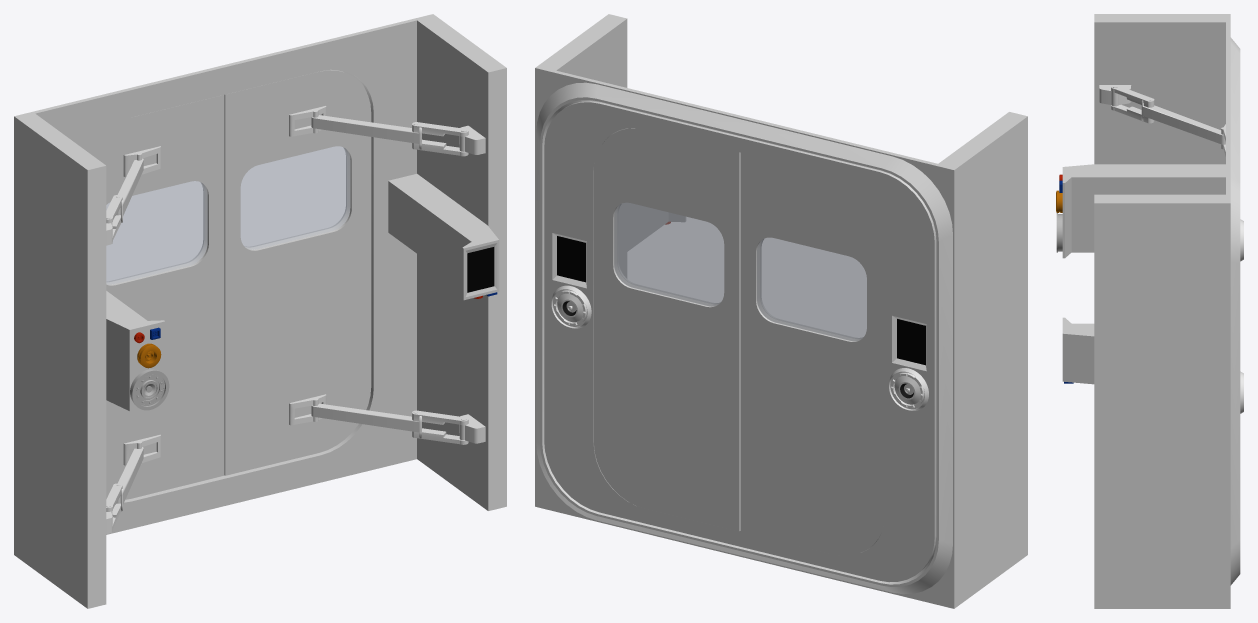
The model's file is DockableDoor.gltf.
3 renders of one model, left to right at view 1: azimuth 30°, elevation 25°; view 2: azimuth 150°, elevation 25°; view 3: azimuth 270°, elevation 25°, orthographic. The views are drawn at different scales.
Parts seen in each view (by area): view 1: door-frame, door-left, door-right, hinge-left-2-arm, hinge-left-1-arm, hinge-right-2-arm, hinge-right-1-arm; view 2: door-frame, door-left, door-right; view 3: door-frame, hinge-right-2-arm, hinge-right-1-arm.
Boxes of the visible parts, <box> form: door-frame: <box>14,14,506,608</box>; door-left: <box>224,69,371,475</box>; door-right: <box>88,95,224,499</box>; hinge-left-2-arm: <box>311,115,421,438</box>; hinge-left-1-arm: <box>412,122,468,444</box>; hinge-right-2-arm: <box>116,158,143,511</box>; hinge-right-1-arm: <box>106,195,122,529</box>; door-frame: <box>535,14,1027,608</box>; door-left: <box>594,128,740,530</box>; door-right: <box>740,152,885,555</box>; door-frame: <box>1056,14,1243,608</box>; hinge-right-2-arm: <box>1141,100,1225,144</box>; hinge-right-1-arm: <box>1111,85,1154,123</box>.
Size of the model in its own units: 2.83 by 2.83 by 1.19.
